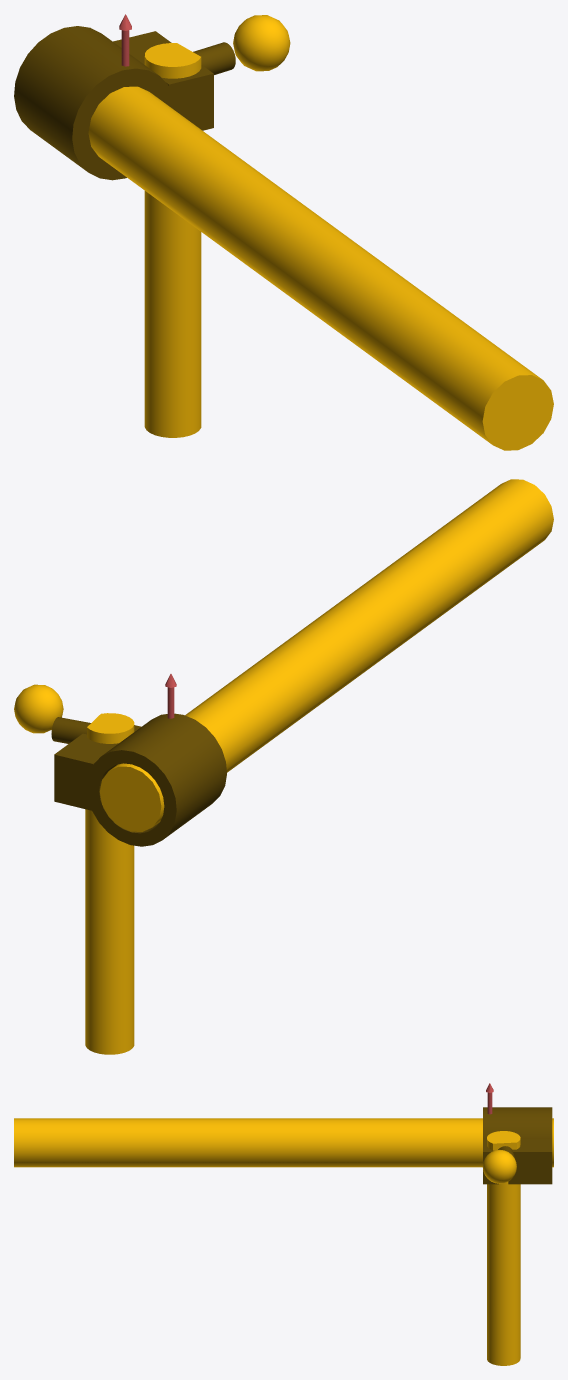
3 views of the same model, one above another, from view 1: azimuth 30°, elevation 25°; view 2: azimuth 150°, elevation 25°; view 3: azimuth 270°, elevation 25° (orthographic). The views are drawn at different scales.
Parts seen in each view (by area): view 1: cylinder, group_0 (×2), group_3, box, sphere; view 2: cylinder, group_0 (×2), group_3, box, sphere; view 3: cylinder, group_0, group_3, box, sphere.
Boxes of the visible parts, x1,y1,x2,y2 form: cylinder: (88, 86, 553, 450); group_0 (×2): (144, 42, 235, 437); group_3: (14, 26, 175, 180); box: (113, 31, 213, 130); sphere: (233, 15, 290, 71); cylinder: (99, 479, 553, 831); group_0 (×2): (51, 713, 134, 1054); group_3: (92, 713, 226, 846); box: (54, 725, 141, 810); sphere: (14, 684, 63, 733); cylinder: (14, 1118, 553, 1167); group_0: (487, 1131, 520, 1365); group_3: (483, 1107, 552, 1138); box: (483, 1139, 552, 1184); sphere: (482, 1149, 516, 1183).
Size of the model in its own units: 31.29 by 108 by 56.86.
